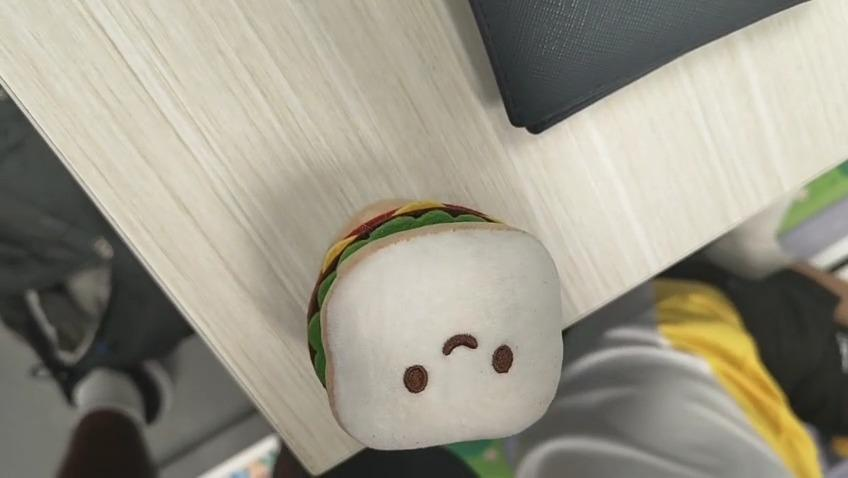objects: (303, 195, 566, 453)
